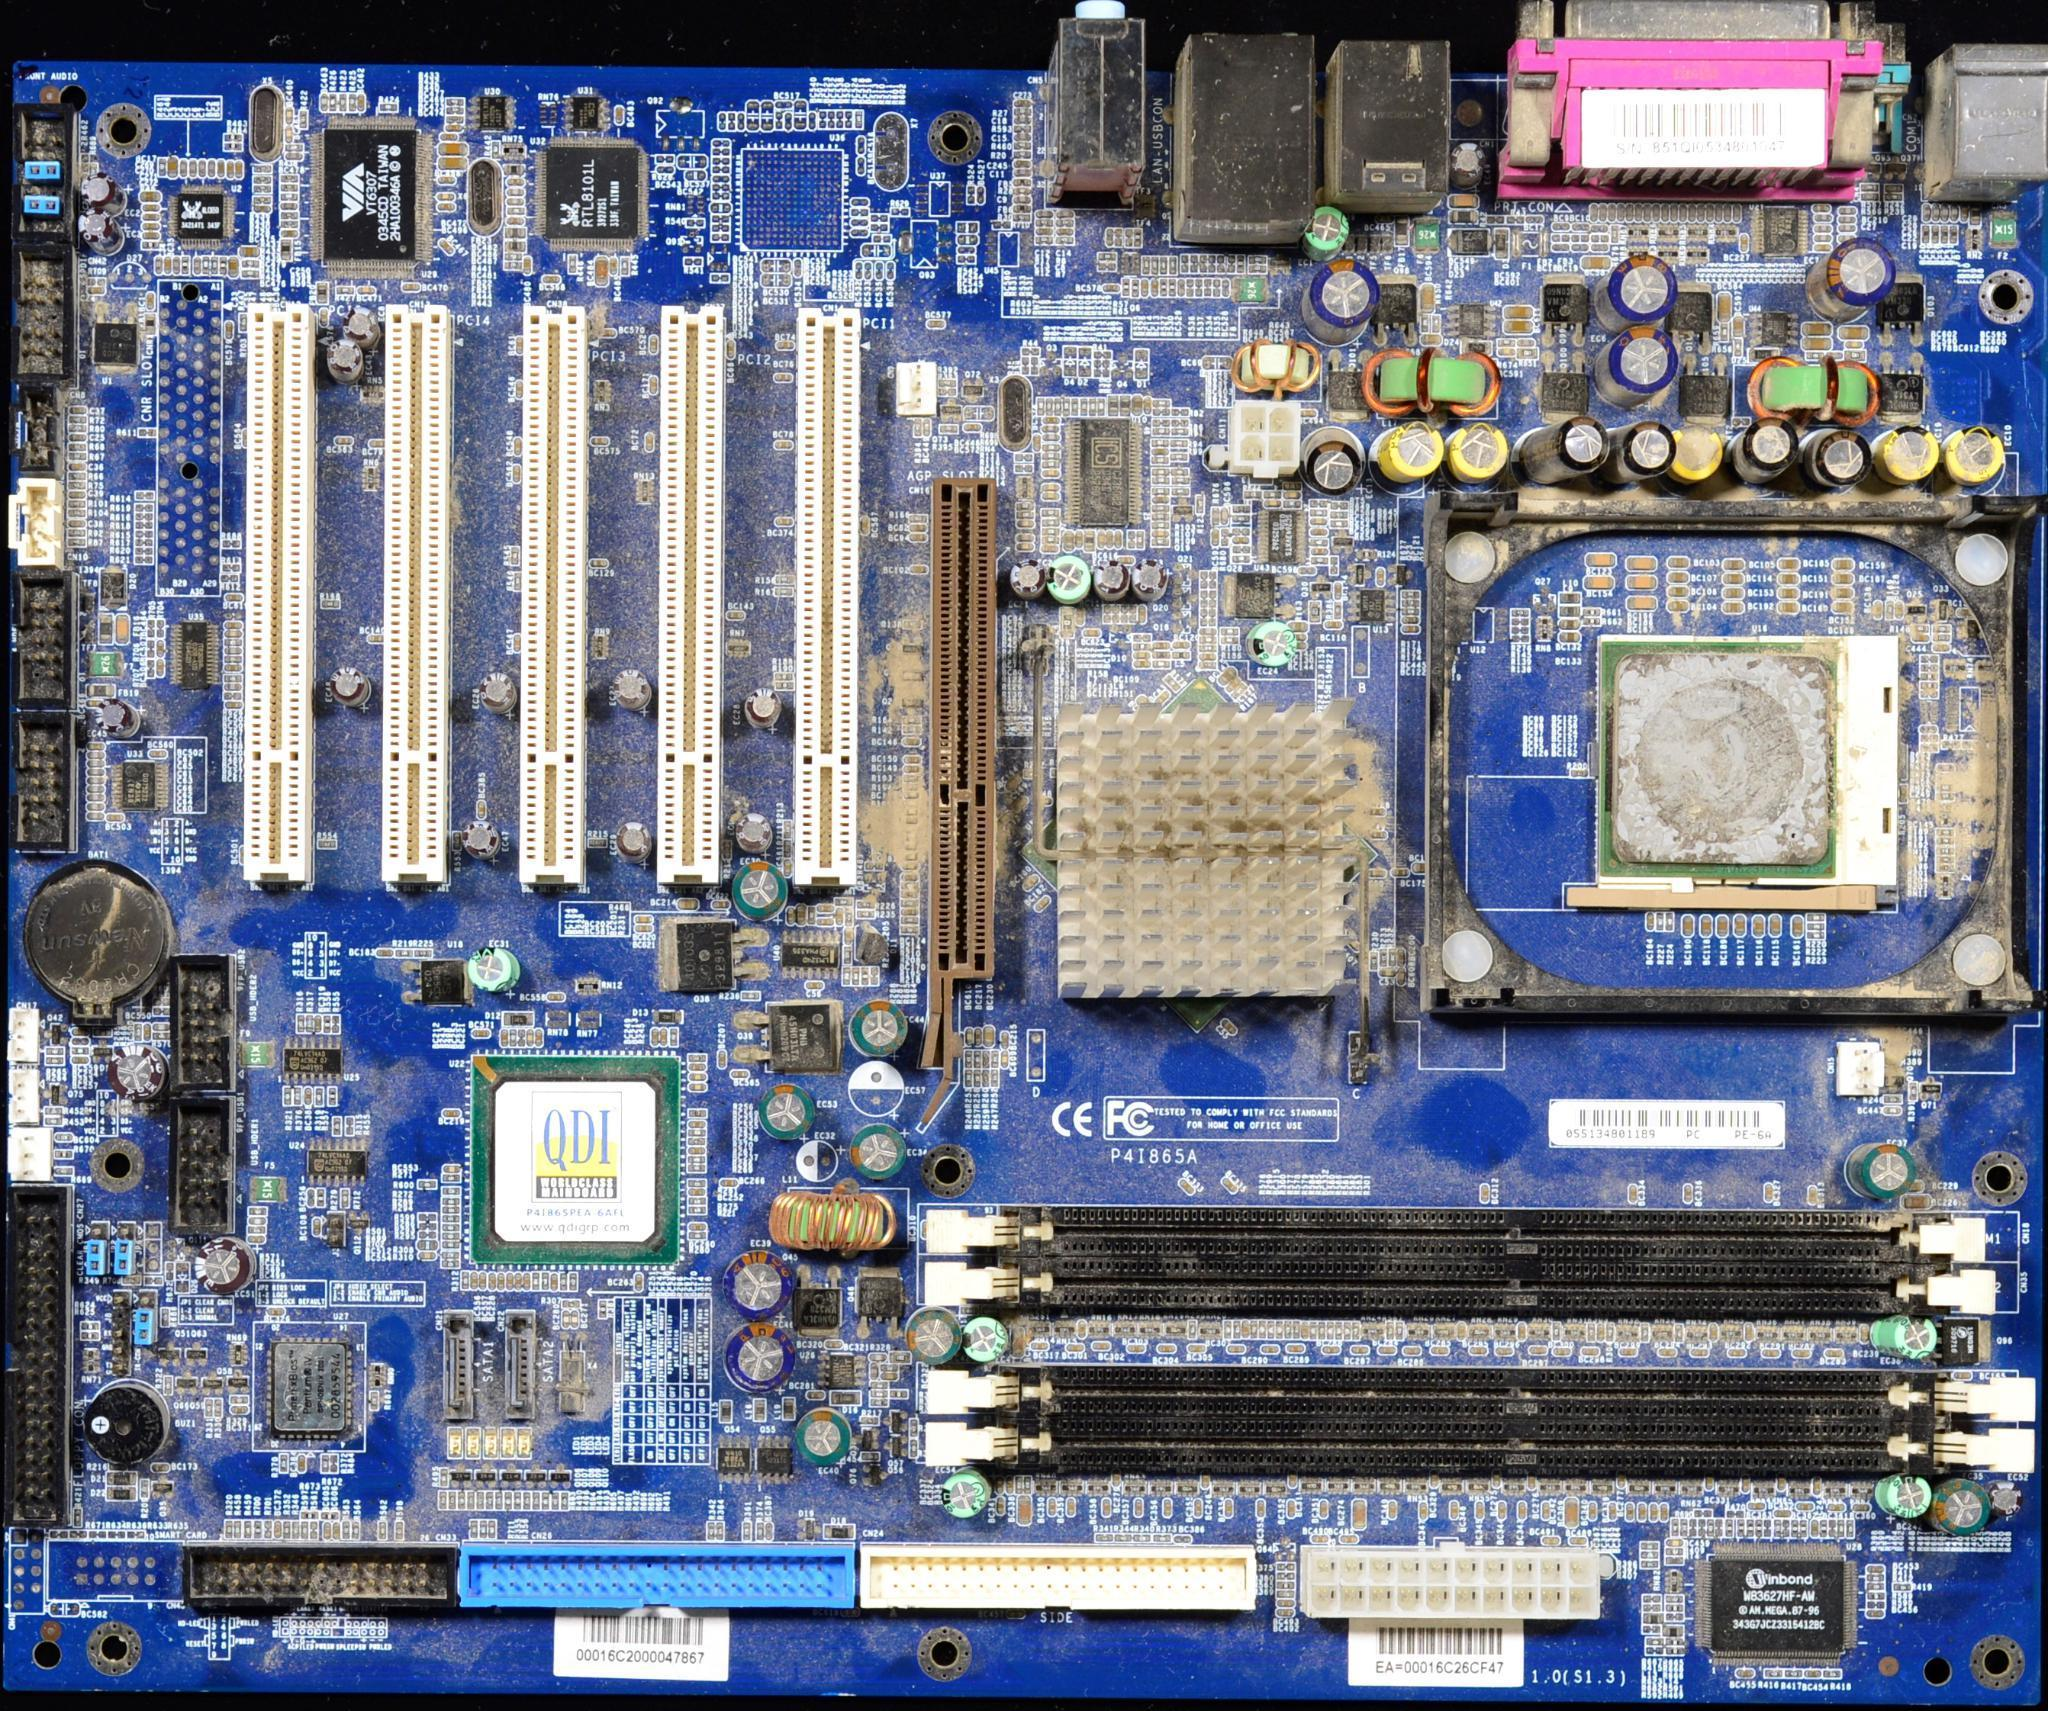Capacitor Jumper: (725, 1322, 793, 1395), (849, 1124, 910, 1184), (192, 1238, 259, 1293), (850, 1000, 910, 1058), (112, 1044, 167, 1104), (759, 1083, 815, 1140), (469, 947, 519, 993), (1584, 575, 1618, 592), (1626, 595, 1658, 611), (1584, 553, 1618, 566), (1754, 913, 1766, 939), (1701, 917, 1715, 939), (1716, 917, 1730, 939), (1735, 913, 1745, 941), (1771, 917, 1783, 939), (442, 1107, 464, 1117), (650, 1027, 660, 1048), (731, 1070, 752, 1080), (689, 1072, 709, 1082), (823, 1339, 844, 1349), (1560, 619, 1580, 629), (1560, 633, 1580, 643), (376, 947, 395, 958), (444, 1165, 463, 1175), (689, 1221, 708, 1231), (1686, 913, 1694, 935), (1647, 913, 1657, 930), (1795, 917, 1803, 937), (720, 1049, 728, 1070), (691, 1083, 708, 1094), (689, 1146, 706, 1157), (315, 1218, 323, 1238), (551, 1272, 560, 1293), (265, 1306, 286, 1315), (806, 1391, 827, 1400), (231, 1403, 248, 1413), (151, 1463, 172, 1471), (304, 1087, 313, 1106), (687, 1121, 706, 1129), (54, 1133, 73, 1141), (572, 1310, 580, 1328), (561, 1311, 570, 1330), (298, 1454, 306, 1473), (634, 1276, 645, 1291), (145, 1024, 153, 1041), (73, 1056, 90, 1065), (480, 1272, 488, 1289), (498, 1274, 507, 1291), (471, 1031, 492, 1037), (515, 1272, 522, 1293), (524, 1272, 531, 1293), (488, 1274, 497, 1289), (323, 1522, 332, 1538), (687, 1065, 706, 1072), (720, 1180, 738, 1187), (689, 1189, 708, 1196), (418, 1253, 437, 1260), (88, 743, 107, 750), (150, 750, 168, 757), (107, 815, 124, 821), (315, 1015, 321, 1032), (502, 1031, 509, 1048), (248, 1236, 265, 1243), (473, 1272, 480, 1289), (276, 1521, 282, 1538), (509, 1272, 514, 1293), (881, 1373, 896, 1379), (333, 1522, 340, 1538), (663, 1029, 668, 1048)
Connector: (925, 1420, 2038, 1481), (920, 1257, 2004, 1315), (922, 1367, 2038, 1422), (920, 1208, 2014, 1257), (245, 301, 315, 888), (657, 303, 726, 890), (793, 304, 862, 891), (383, 303, 451, 884), (522, 303, 589, 886), (932, 473, 997, 985), (859, 1541, 1257, 1616), (459, 1539, 859, 1612), (7, 1179, 75, 1532), (184, 1544, 459, 1614), (172, 952, 240, 1095), (10, 104, 75, 240), (170, 1095, 233, 1233), (10, 242, 71, 383), (14, 568, 75, 709), (15, 713, 70, 854), (10, 383, 68, 476), (12, 478, 66, 568), (503, 1308, 536, 1420), (444, 1310, 476, 1420), (10, 1128, 54, 1180), (9, 1066, 44, 1128), (9, 1007, 41, 1065)
IC: (466, 1054, 686, 1270), (308, 112, 437, 282), (1696, 1541, 1861, 1670), (532, 138, 651, 257), (265, 1337, 356, 1442), (1061, 418, 1145, 527), (168, 184, 236, 248), (94, 303, 145, 386), (170, 612, 221, 692), (107, 755, 174, 815), (279, 1034, 345, 1087), (303, 1138, 373, 1187), (777, 929, 844, 980), (1255, 507, 1311, 566), (1749, 206, 1810, 259), (468, 94, 521, 134), (565, 94, 612, 138), (1446, 303, 1499, 338), (818, 1350, 866, 1390), (1750, 311, 1800, 347), (1352, 588, 1397, 624)
Resistor Jumper: (332, 1116, 344, 1138), (668, 1027, 680, 1048), (1822, 1668, 1842, 1680), (337, 286, 357, 298), (66, 509, 87, 520), (1582, 616, 1602, 628), (395, 1521, 405, 1543), (418, 1179, 437, 1191), (541, 1492, 553, 1510), (522, 1492, 534, 1510), (1772, 1519, 1784, 1538), (1846, 1519, 1857, 1538), (180, 257, 192, 276), (1806, 912, 1827, 922), (1665, 913, 1675, 934), (964, 1049, 975, 1070), (687, 1165, 708, 1175), (856, 111, 866, 131), (687, 1231, 708, 1242), (560, 1272, 570, 1293), (891, 1352, 912, 1362), (861, 1415, 881, 1425), (223, 143, 243, 153), (301, 1510, 321, 1521), (1866, 1573, 1886, 1583), (1784, 1668, 1805, 1679), (158, 158, 168, 179), (281, 192, 301, 202), (1056, 236, 1077, 247), (1041, 509, 1061, 519), (1232, 514, 1252, 524), (66, 527, 87, 537), (68, 537, 88, 548), (1334, 600, 1344, 621), (1235, 685, 1249, 701), (415, 947, 434, 958), (1380, 949, 1390, 968), (1369, 952, 1380, 971), (304, 1014, 315, 1032), (964, 1070, 975, 1089), (328, 1087, 338, 1106), (299, 112, 310, 131), (225, 134, 243, 145), (1024, 1476, 1034, 1495), (503, 1492, 514, 1510), (476, 1492, 486, 1510), (486, 1492, 497, 1510), (1670, 1519, 1681, 1538), (1727, 1519, 1737, 1538), (253, 1521, 264, 1539), (243, 1521, 253, 1539), (264, 1521, 274, 1539), (743, 1522, 754, 1541), (706, 1522, 716, 1541), (1641, 1560, 1660, 1570), (242, 260, 260, 270), (1141, 257, 1152, 276), (70, 471, 88, 481), (1153, 476, 1172, 486), (68, 498, 87, 509), (1153, 512, 1172, 522), (1221, 634, 1240, 645), (225, 655, 243, 665), (1806, 932, 1829, 941), (561, 1299, 583, 1308), (1232, 554, 1254, 563), (446, 99, 466, 107), (298, 1015, 306, 1036), (379, 104, 400, 112), (992, 1070, 1000, 1090), (442, 1187, 463, 1196), (340, 1191, 350, 1208), (442, 1196, 463, 1204), (442, 1206, 463, 1214), (248, 1209, 269, 1218), (599, 1299, 607, 1320), (80, 1332, 100, 1340), (890, 1390, 910, 1398), (371, 1391, 379, 1412), (214, 1398, 223, 1418), (910, 1439, 919, 1459), (1014, 141, 1031, 151), (281, 1452, 289, 1473), (492, 141, 502, 158), (458, 1492, 468, 1509), (561, 1492, 570, 1512), (1708, 1517, 1716, 1538), (488, 1519, 497, 1539), (310, 1522, 320, 1539), (1152, 1534, 1172, 1543), (1094, 1534, 1114, 1543), (1665, 1636, 1686, 1645), (1665, 1646, 1686, 1655), (281, 175, 301, 184), (1885, 192, 1902, 202), (281, 213, 301, 221), (1038, 218, 1055, 228), (1097, 252, 1118, 260), (1169, 257, 1179, 274), (941, 425, 961, 434), (1170, 452, 1191, 461), (1170, 468, 1191, 476), (68, 481, 88, 490), (1196, 495, 1204, 515), (1041, 527, 1061, 536), (340, 94, 349, 112), (349, 94, 357, 112), (330, 94, 338, 112), (323, 1015, 332, 1034), (975, 1051, 983, 1070), (992, 1051, 1000, 1070), (294, 1087, 303, 1106), (447, 107, 466, 116), (689, 1179, 708, 1187), (689, 1197, 708, 1206), (689, 1208, 708, 1216), (442, 1242, 461, 1250), (441, 1252, 459, 1260), (1015, 124, 1034, 133), (461, 1272, 469, 1291), (570, 1274, 578, 1293), (82, 1322, 100, 1330), (871, 1398, 890, 1407), (206, 1400, 214, 1418), (441, 1469, 449, 1488), (141, 1480, 150, 1498), (449, 1492, 458, 1510), (468, 1492, 476, 1510), (495, 1492, 503, 1510), (534, 1492, 543, 1510), (553, 1492, 561, 1510), (514, 1493, 522, 1512), (1747, 1519, 1755, 1538), (1737, 1519, 1745, 1538), (471, 1521, 480, 1539), (480, 1521, 488, 1539), (352, 1521, 361, 1539), (757, 1522, 765, 1541), (301, 1522, 310, 1541), (1014, 151, 1033, 160), (1641, 1551, 1660, 1560), (1868, 1582, 1886, 1590), (1868, 1592, 1886, 1600), (1766, 1670, 1784, 1679), (1861, 184, 1880, 192), (1839, 206, 1857, 214), (1012, 214, 1031, 223), (1056, 218, 1075, 226), (1815, 225, 1834, 233), (1249, 257, 1267, 265), (155, 257, 163, 276), (242, 270, 260, 279), (1170, 279, 1179, 298), (1160, 279, 1169, 298), (1152, 401, 1170, 410), (915, 418, 924, 437), (70, 452, 88, 461), (1174, 486, 1192, 495), (1213, 507, 1221, 526), (1138, 532, 1146, 551), (1402, 592, 1420, 600), (1584, 607, 1602, 616), (1402, 607, 1420, 616), (1510, 607, 1529, 616), (1135, 643, 1153, 651), (225, 675, 243, 684), (908, 515, 930, 522), (396, 949, 413, 958), (1885, 1095, 1902, 1104), (316, 1191, 325, 1208), (442, 1260, 459, 1269), (1791, 1521, 1800, 1538), (226, 1521, 235, 1538), (284, 1521, 293, 1538), (379, 1522, 388, 1539), (1647, 1638, 1664, 1646), (1817, 214, 1834, 223), (505, 262, 522, 270), (219, 259, 228, 276), (1250, 265, 1267, 274), (1090, 400, 1099, 417), (70, 417, 87, 425), (70, 425, 87, 434), (1043, 432, 1060, 441), (1153, 439, 1170, 447), (1172, 439, 1189, 447), (70, 442, 87, 451), (1043, 442, 1060, 451), (1174, 476, 1191, 485), (1017, 510, 1034, 519), (1153, 539, 1170, 548), (1570, 770, 1590, 777), (1806, 924, 1827, 930), (286, 1087, 293, 1107), (687, 1157, 708, 1163), (442, 1216, 463, 1223), (442, 1233, 463, 1240), (543, 1270, 549, 1291), (532, 1272, 539, 1293), (231, 1396, 252, 1403), (286, 146, 306, 153), (1893, 1583, 1914, 1590), (1136, 230, 1143, 250), (1041, 520, 1061, 527), (1657, 912, 1664, 930), (316, 1089, 323, 1107), (442, 1175, 461, 1182), (442, 1225, 461, 1231), (912, 1418, 919, 1437), (441, 1492, 447, 1510), (321, 1512, 340, 1519), (1822, 1519, 1829, 1538), (1757, 1519, 1764, 1538), (1801, 1519, 1808, 1538), (1839, 1521, 1846, 1539), (235, 1521, 242, 1539), (293, 1521, 299, 1539), (1133, 1536, 1152, 1543), (1665, 1548, 1684, 1555), (1885, 184, 1903, 190), (281, 185, 299, 192), (1014, 189, 1033, 196), (1840, 226, 1859, 233), (1238, 255, 1245, 274), (213, 257, 219, 276), (1133, 277, 1140, 296), (1099, 396, 1106, 415), (1065, 398, 1072, 417), (1055, 398, 1061, 417), (1153, 429, 1172, 435), (1170, 429, 1189, 435), (1043, 452, 1061, 459), (1017, 503, 1036, 510), (1402, 600, 1420, 607), (1221, 628, 1240, 634), (225, 639, 243, 646), (975, 1072, 981, 1089), (873, 1391, 890, 1398), (323, 1454, 330, 1471), (1017, 1476, 1024, 1493), (344, 1522, 350, 1539), (718, 1522, 725, 1539), (1116, 1536, 1133, 1543), (1641, 1543, 1658, 1549), (1839, 218, 1856, 225), (281, 223, 298, 230), (1036, 236, 1053, 243), (505, 253, 522, 260), (1048, 400, 1055, 417), (1153, 468, 1170, 475), (1153, 488, 1170, 495), (1153, 662, 1170, 668), (1014, 111, 1034, 116), (873, 1383, 888, 1390), (1072, 398, 1078, 413), (1082, 398, 1089, 413), (1153, 524, 1174, 529), (1391, 949, 1397, 968), (1863, 196, 1881, 201), (1163, 257, 1169, 276), (1039, 398, 1044, 417), (1152, 505, 1170, 510), (1123, 281, 1129, 294), (1682, 1519, 1687, 1536), (1153, 257, 1158, 274), (204, 259, 209, 276), (1152, 458, 1169, 463), (1043, 463, 1060, 468), (1044, 537, 1061, 543)
Transistor: (662, 918, 774, 997), (737, 1002, 840, 1072), (1675, 354, 1737, 420), (1538, 350, 1592, 423), (1538, 274, 1592, 344), (1221, 571, 1298, 621), (854, 1267, 907, 1339), (1874, 354, 1927, 423), (1328, 350, 1378, 423), (1880, 276, 1927, 349), (1373, 274, 1419, 347), (401, 959, 471, 1005), (796, 1265, 840, 1337), (1670, 284, 1716, 350), (1934, 1316, 1994, 1366), (757, 1435, 794, 1485), (718, 1434, 754, 1485), (43, 1083, 73, 1107), (43, 1020, 70, 1046), (156, 1340, 184, 1366), (175, 1369, 201, 1396), (185, 1340, 211, 1366), (1388, 561, 1414, 587), (201, 1369, 225, 1396), (862, 1464, 890, 1488), (524, 1463, 548, 1490), (1347, 561, 1371, 588), (1919, 1077, 1943, 1102), (885, 1408, 908, 1434), (475, 1463, 498, 1488), (549, 1463, 573, 1488), (939, 400, 964, 423), (502, 1463, 524, 1490), (1310, 577, 1334, 600), (230, 1367, 252, 1393), (854, 1429, 879, 1451), (886, 1434, 908, 1459), (452, 1463, 475, 1488), (153, 1475, 175, 1500), (963, 379, 985, 405), (94, 1037, 114, 1065), (1174, 498, 1194, 524), (1334, 531, 1356, 553), (349, 1211, 367, 1235)
